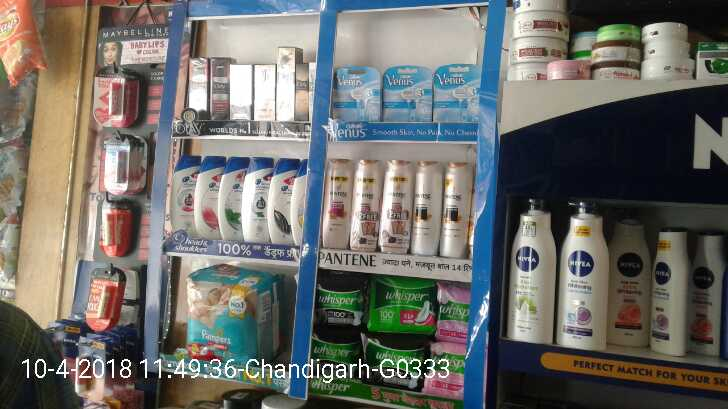venus: (332, 65, 382, 123), (383, 66, 433, 121), (434, 65, 481, 122)
